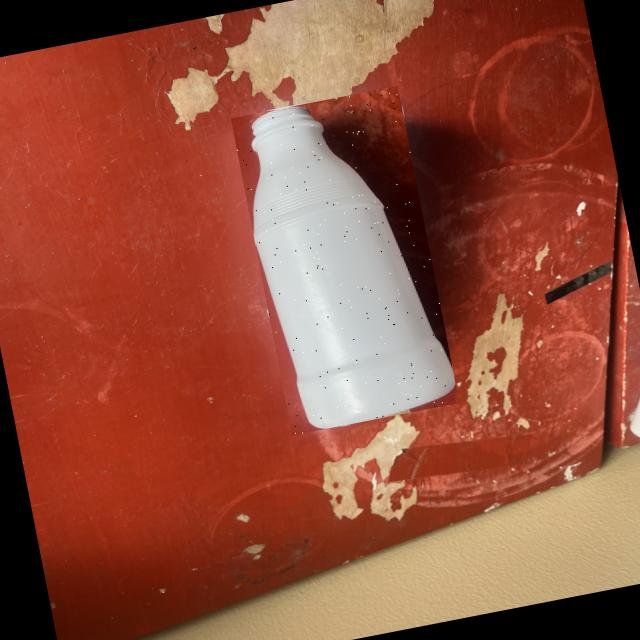HDPE_Bottle: (252, 107, 454, 428)
